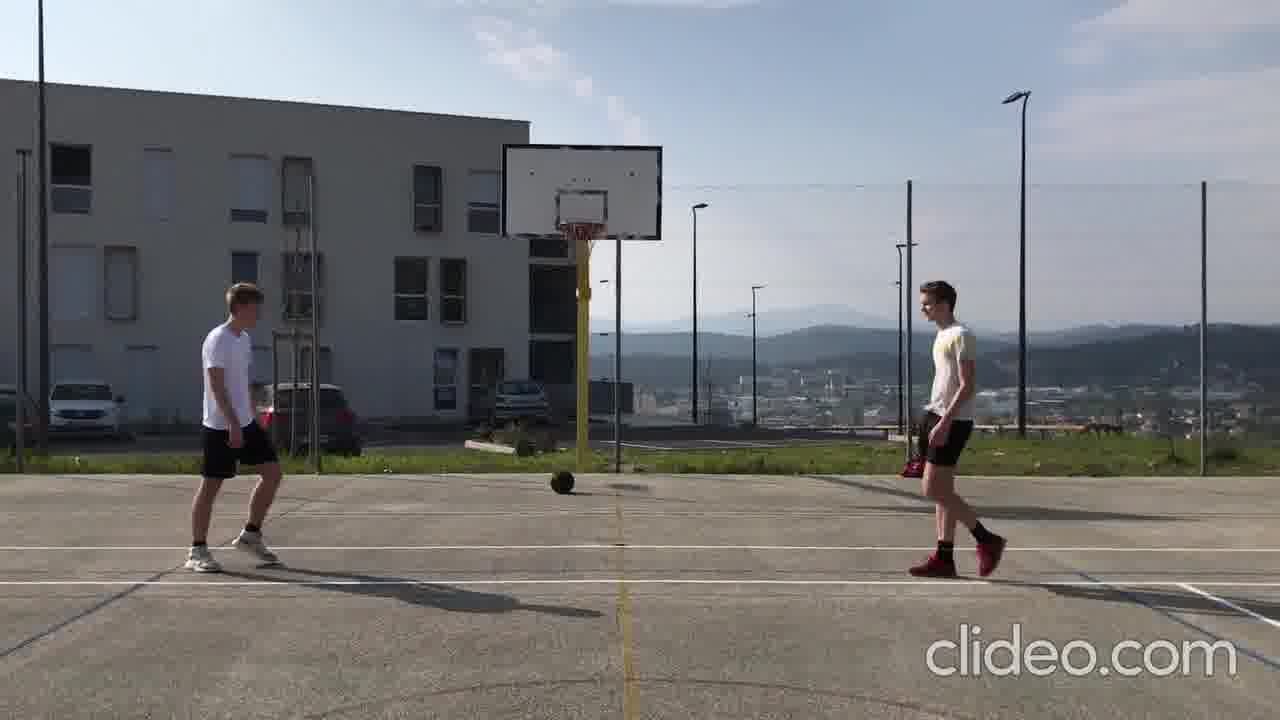jugador: (893, 274, 1018, 588)
